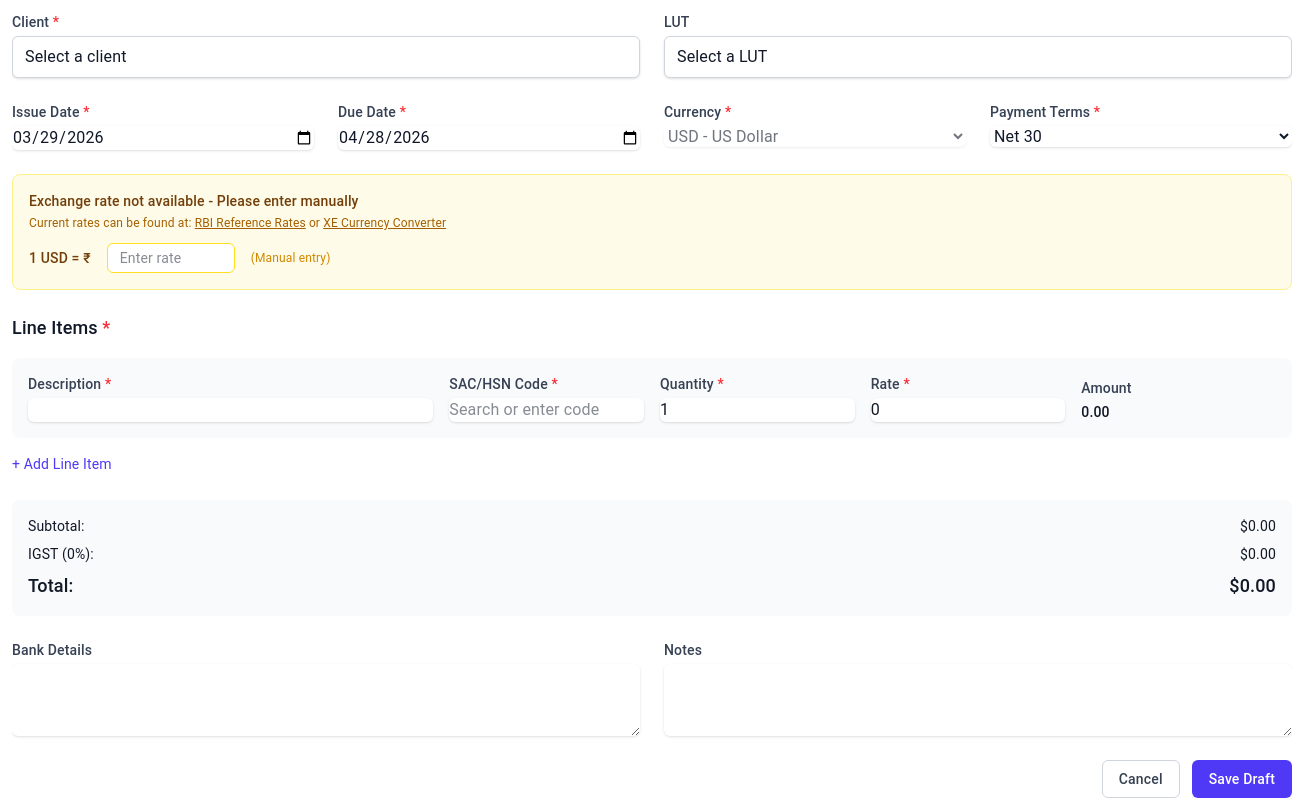
it: InvoiceForm › should populate client dropdown with provided clients
What coordinates should you click on to do the following:
click the button labelled "Select a client"
I would click on:
 (76, 56)
Its box is x1=12 y1=36 x2=640 y2=78.
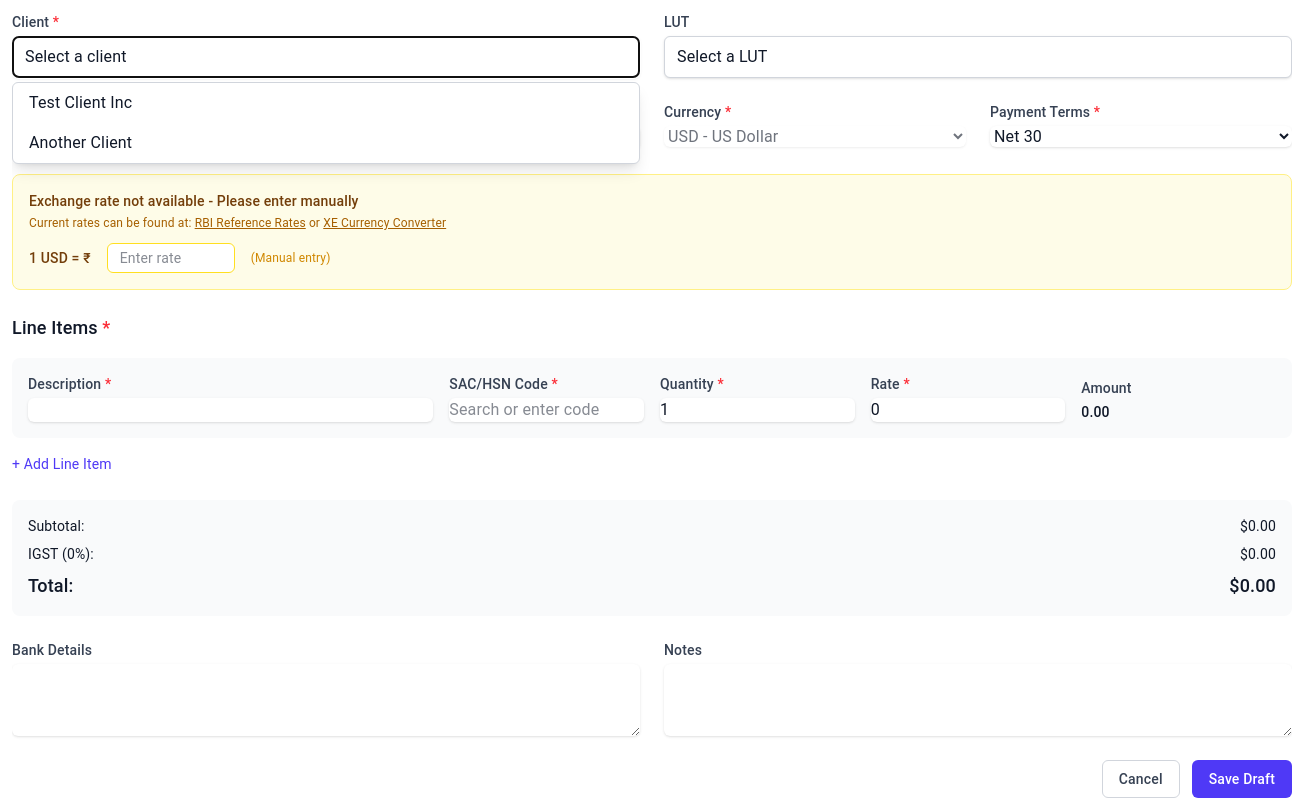
Check: the option "Test Client Inc" is shown, box x1=13 y1=83 x2=639 y2=123
Check: the option "Another Client" is shown, box x1=13 y1=123 x2=639 y2=163
